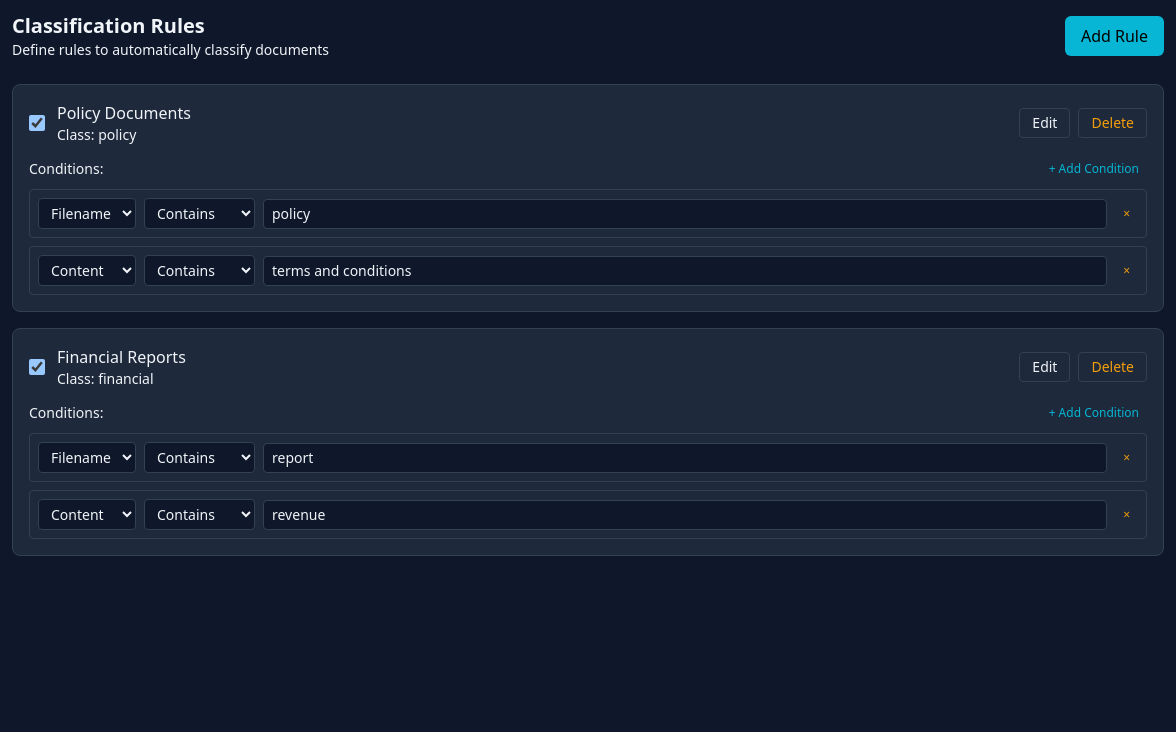
RulesBuilder › can delete conditions
This screenshot has width=1176, height=732.
// Delete first condition
Click the 1st button "×". click: x=1127, y=214
box: [1115, 202, 1138, 226]
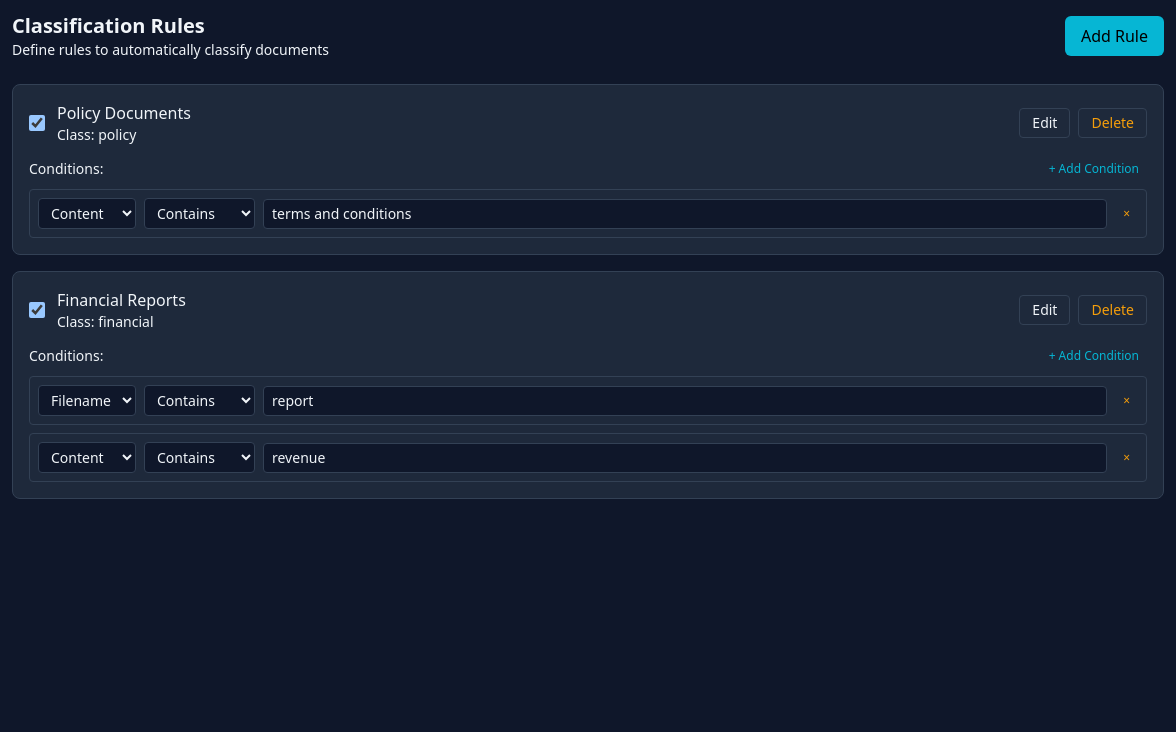
Now the number of buttons "×" is 3, box [1115, 202, 1138, 226]; [1115, 388, 1138, 412]; [1115, 446, 1138, 470]
